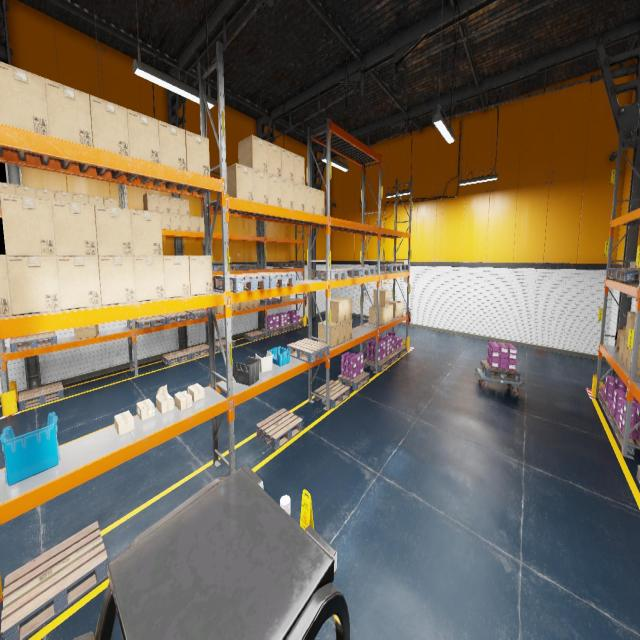box: (0, 61, 49, 135), (0, 194, 56, 255), (44, 78, 92, 146), (6, 256, 61, 315), (52, 200, 98, 256), (56, 256, 102, 310), (90, 95, 130, 156), (94, 205, 133, 255), (98, 256, 136, 305), (127, 108, 160, 164), (130, 209, 162, 256), (133, 256, 165, 302), (158, 120, 186, 170), (185, 130, 210, 176), (238, 135, 268, 173), (163, 256, 190, 298), (226, 163, 254, 201), (189, 256, 212, 295), (0, 255, 12, 317), (318, 321, 339, 347), (156, 384, 174, 414), (253, 169, 268, 204), (114, 410, 134, 436), (267, 142, 281, 178), (326, 298, 346, 323), (625, 312, 640, 342), (136, 398, 155, 421), (333, 297, 352, 320), (627, 343, 640, 376), (268, 174, 281, 207), (281, 178, 294, 210), (281, 148, 293, 182), (0, 182, 16, 206), (73, 325, 99, 339), (174, 390, 192, 410), (294, 153, 304, 185), (143, 192, 159, 212), (188, 383, 204, 402), (368, 306, 384, 325), (614, 327, 626, 352), (294, 182, 304, 211), (15, 185, 36, 198), (374, 289, 389, 307), (304, 186, 314, 213), (35, 187, 55, 200), (389, 300, 404, 317), (315, 189, 324, 215), (158, 194, 170, 213), (376, 306, 389, 323), (54, 190, 72, 202), (72, 192, 89, 204), (618, 334, 625, 363), (170, 213, 181, 230), (169, 197, 180, 214), (338, 321, 346, 344), (622, 338, 628, 368), (88, 195, 104, 206), (160, 212, 170, 229), (180, 215, 190, 231), (180, 199, 190, 215), (103, 197, 118, 207), (190, 216, 199, 232), (346, 319, 352, 341), (214, 305, 223, 314), (280, 294, 290, 302), (199, 217, 204, 232), (388, 304, 392, 321), (253, 299, 260, 307), (239, 302, 247, 309), (232, 303, 239, 311), (248, 301, 254, 308), (231, 304, 232, 311)
forklift: (72, 466, 350, 640)
pallets: (1, 522, 108, 640), (256, 408, 302, 450), (18, 382, 64, 410), (287, 338, 329, 364), (213, 274, 269, 292), (10, 331, 57, 352), (314, 381, 350, 408), (614, 421, 640, 456), (480, 360, 520, 381), (248, 272, 296, 288), (338, 371, 369, 390), (162, 349, 191, 366), (134, 316, 166, 330), (363, 357, 390, 372), (160, 311, 190, 324), (312, 269, 347, 280), (184, 344, 209, 358), (608, 268, 640, 278), (616, 268, 640, 281), (331, 268, 361, 278), (216, 338, 236, 352), (186, 308, 207, 320), (606, 405, 616, 430), (348, 267, 375, 276), (244, 330, 265, 341), (375, 264, 401, 272), (599, 392, 608, 413), (385, 351, 399, 364), (262, 327, 282, 336), (394, 345, 407, 357), (278, 324, 293, 332), (260, 298, 280, 304), (242, 264, 261, 270), (392, 264, 408, 271), (290, 321, 303, 328), (636, 465, 640, 485), (273, 263, 292, 267), (230, 265, 245, 270), (212, 265, 222, 271), (289, 262, 303, 266)
